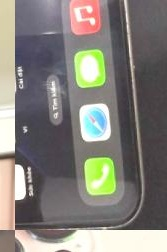scratch: (125, 29, 140, 140)
